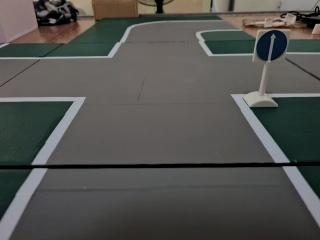straight: (254, 28, 290, 63)
